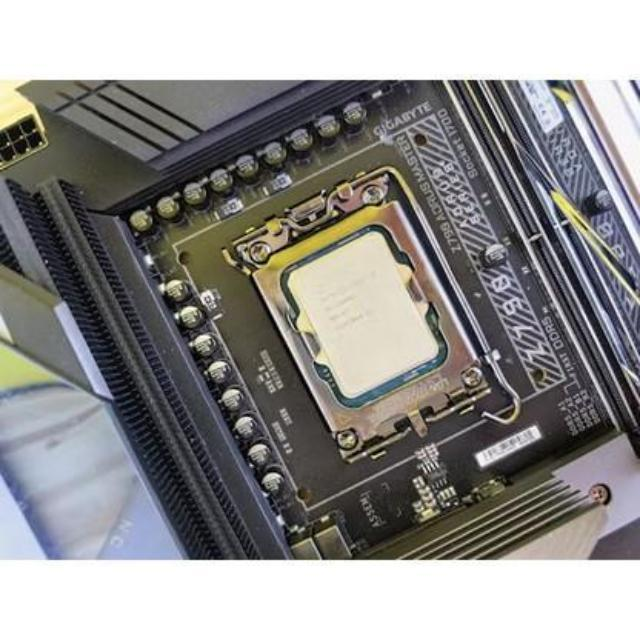CPU: (288, 236, 446, 396)
